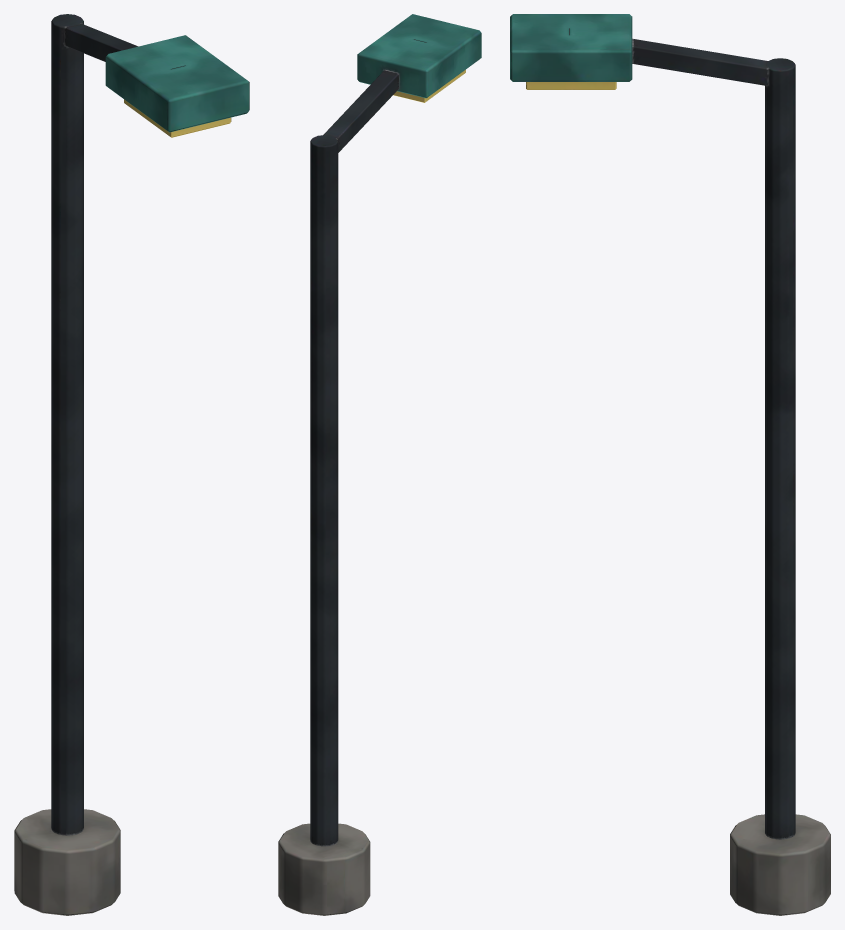
The model's file is street_lamp_rust.glb.
3 views of the same model, side by side, from view 1: azimuth 30°, elevation 25°; view 2: azimuth 150°, elevation 25°; view 3: azimuth 270°, elevation 25° (orthographic). The views are drawn at different scales.
Parts seen in each view (by area): view 1: StreetLampRust; view 2: StreetLampRust; view 3: StreetLampRust.
Boxes of the visible parts, <box> form: StreetLampRust: <box>14,14,249,915</box>; StreetLampRust: <box>278,14,481,915</box>; StreetLampRust: <box>510,14,830,915</box>.
Size of the model in its own units: 0.5125 by 4.83 by 1.63.
1 material, 1 textured.
